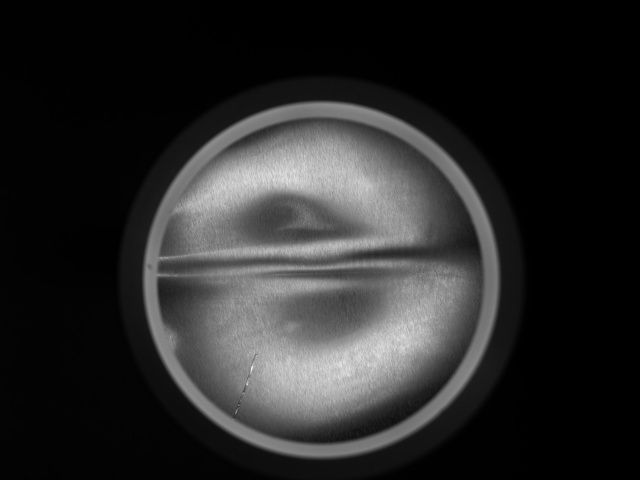ca_shang: (231, 346, 277, 421)
zhe_zhou: (203, 144, 447, 408)
